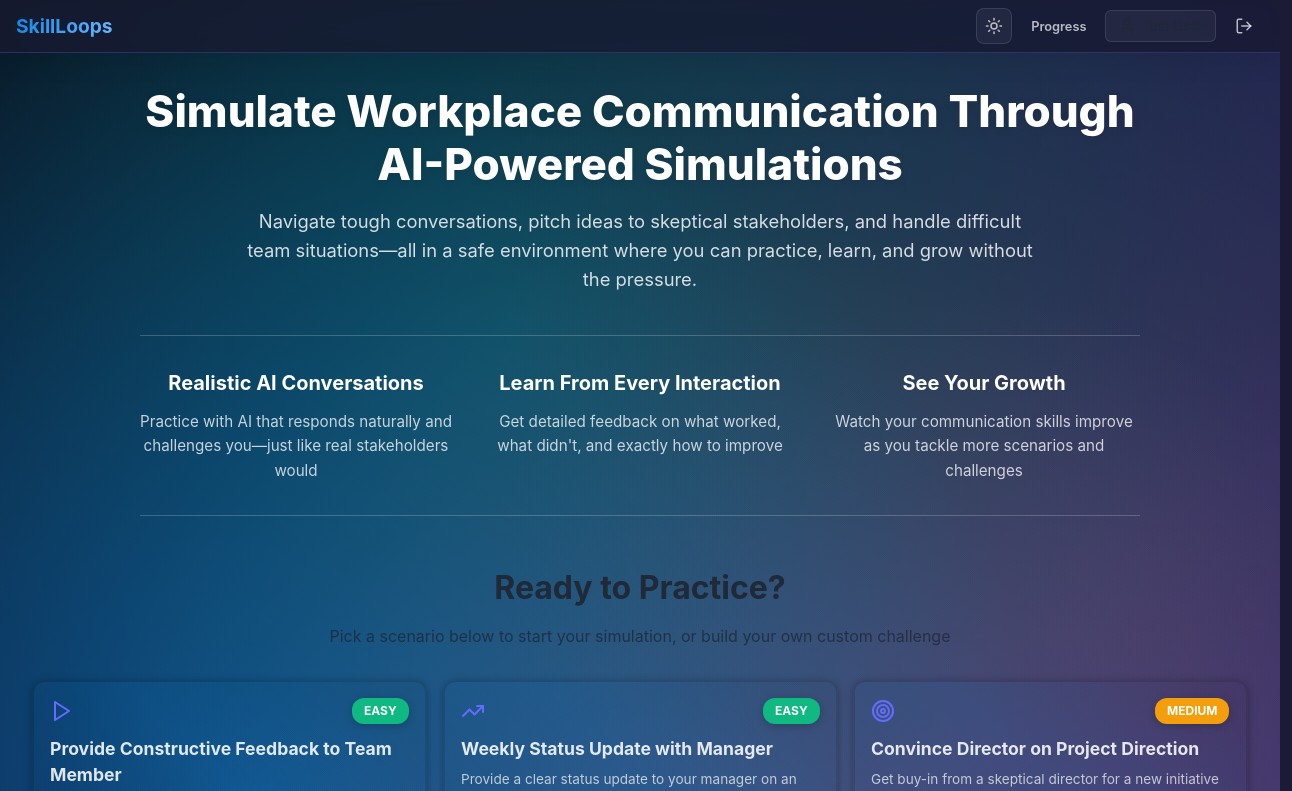
Progress Tracking Integration Tests › should navigate to progress dashboard when progress button is clicked
The image size is (1292, 791).
Check: the heading "Ready to Practice?" is shown, box [494,568,786,607]
# Click progress button
Click the button "Progress" at (1059, 26), box [1020,13,1098,39]
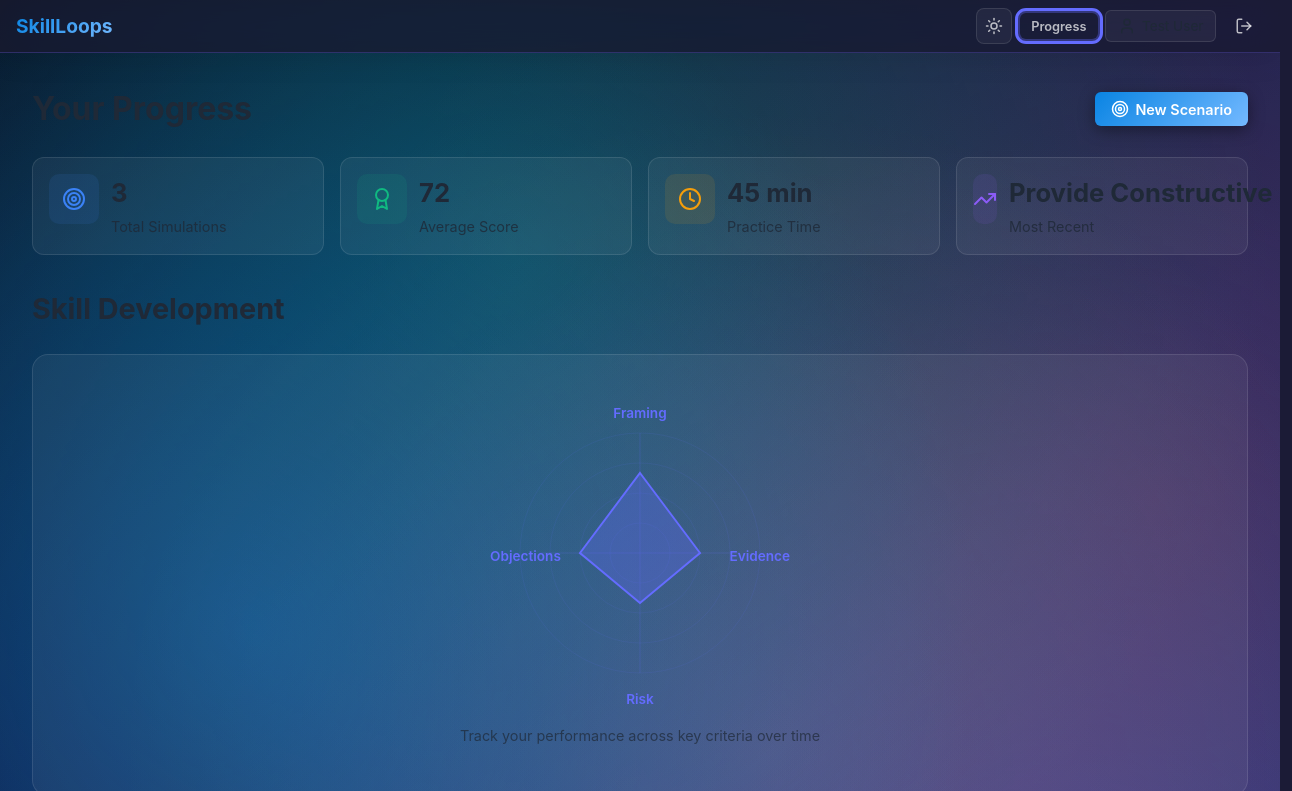
Check: the heading "Your Progress" is shown, box [32,85,252,133]
